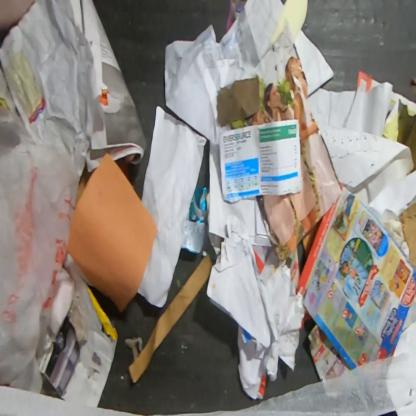cardboard: (398, 201, 415, 268)
soft_plastic: (0, 104, 82, 394)
